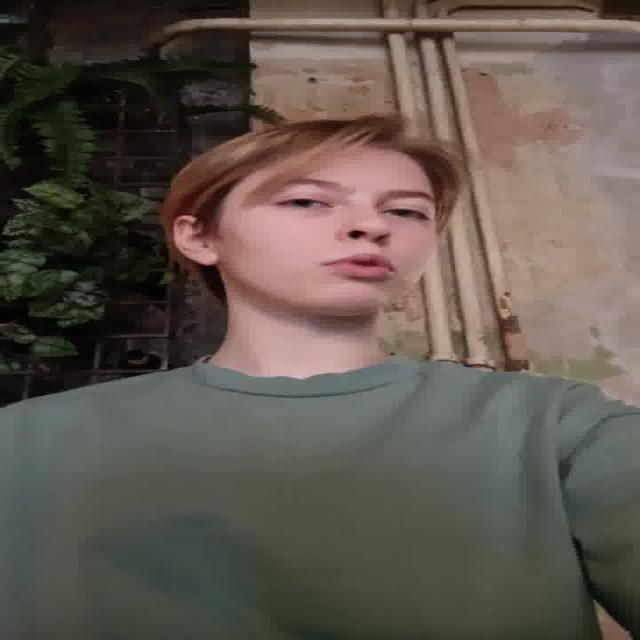earlobe: (174, 215, 222, 266)
